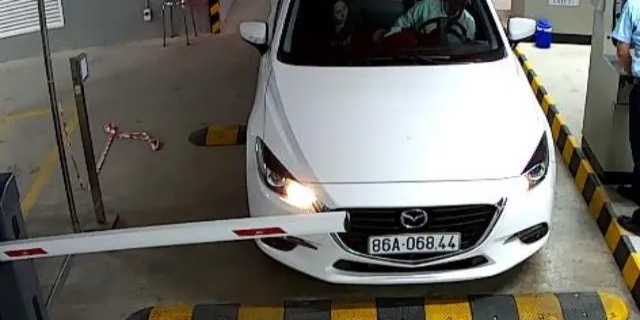bien_so: (369, 234, 460, 254)
